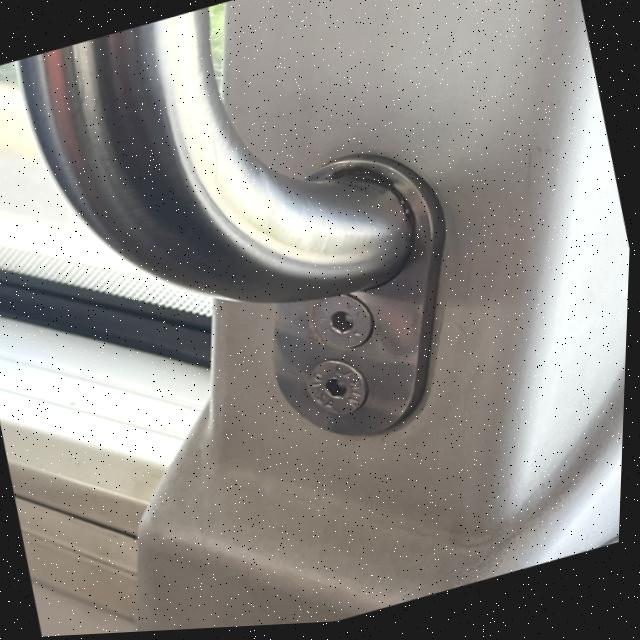Hex Socket Allen: (293, 348, 378, 426), (303, 282, 388, 359)
